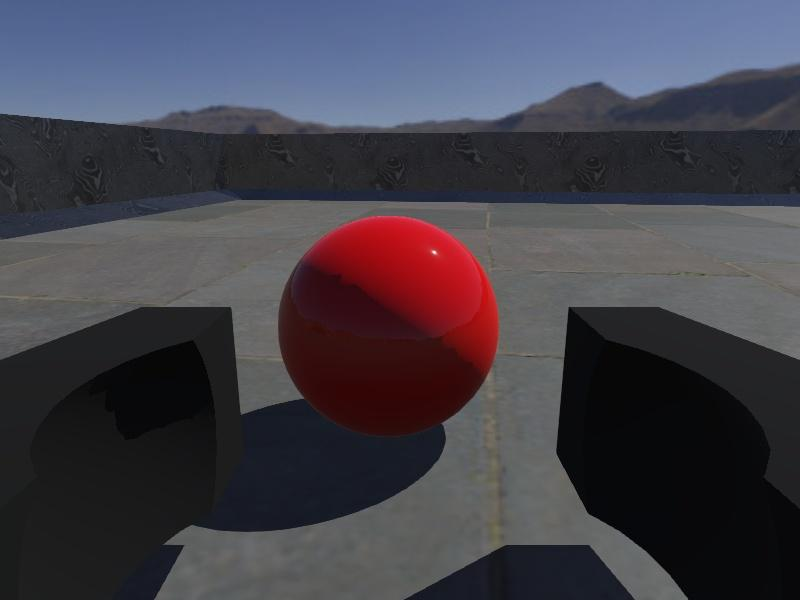red ball: (277, 214, 500, 438)
